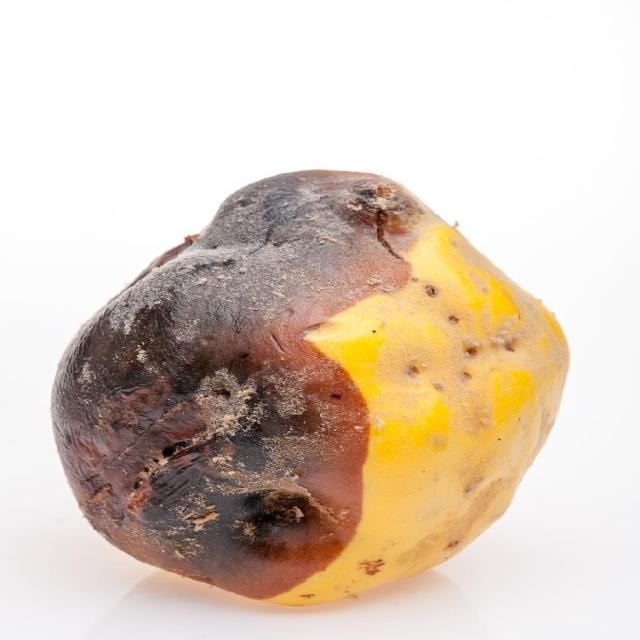organic: (49, 170, 571, 611)
